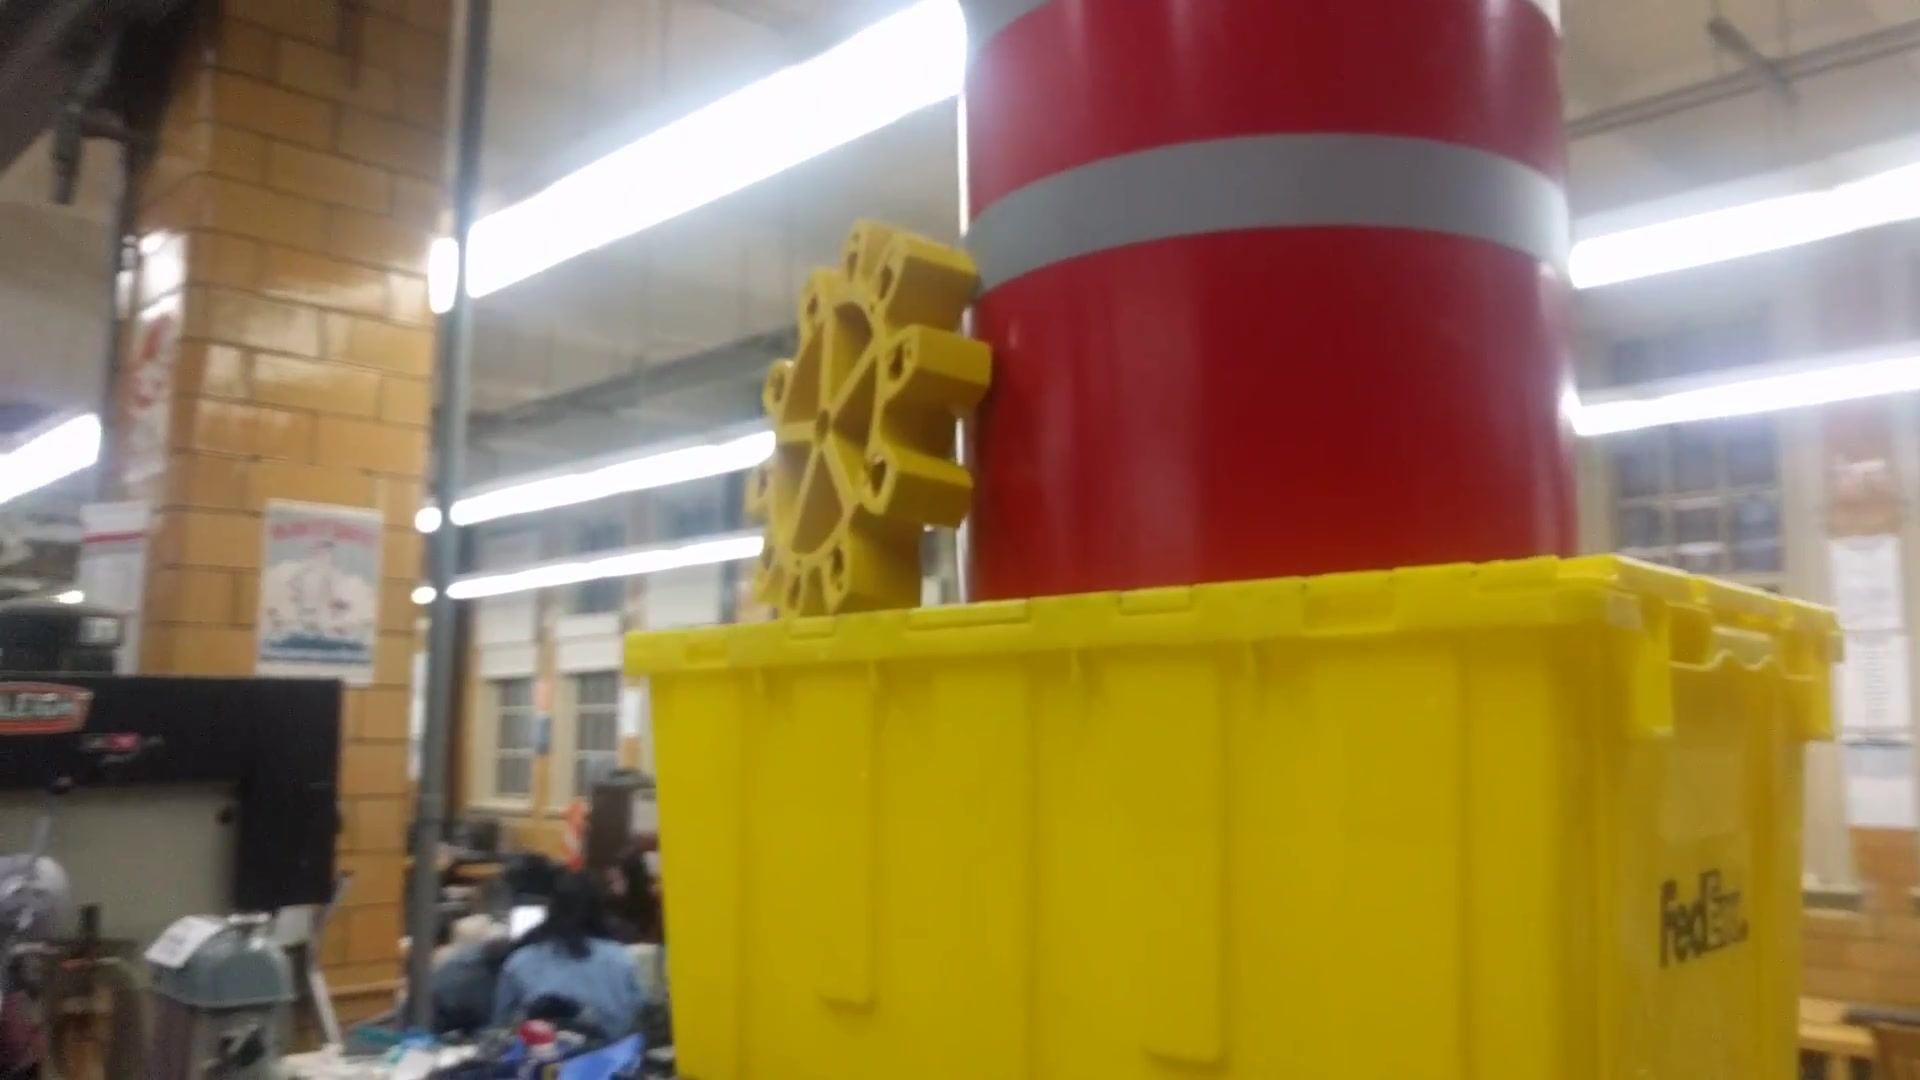gear: (740, 207, 1000, 638)
